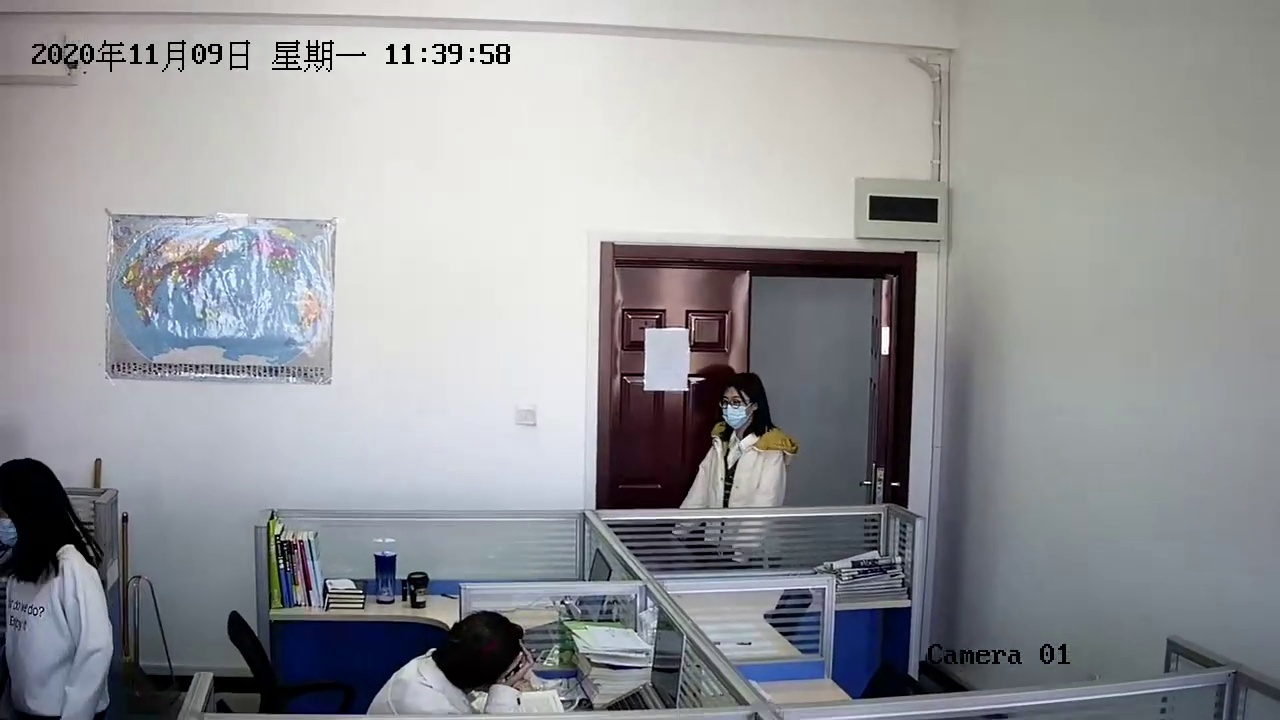mask: (719, 381, 760, 431)
